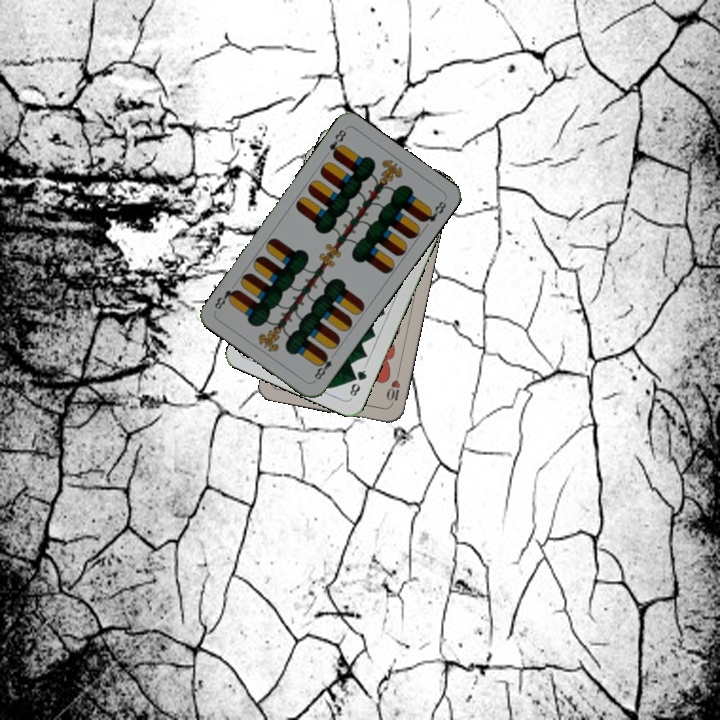E8: (310, 349, 338, 384), (325, 125, 349, 161)
G8: (346, 362, 369, 401)
H10: (383, 368, 403, 408)
